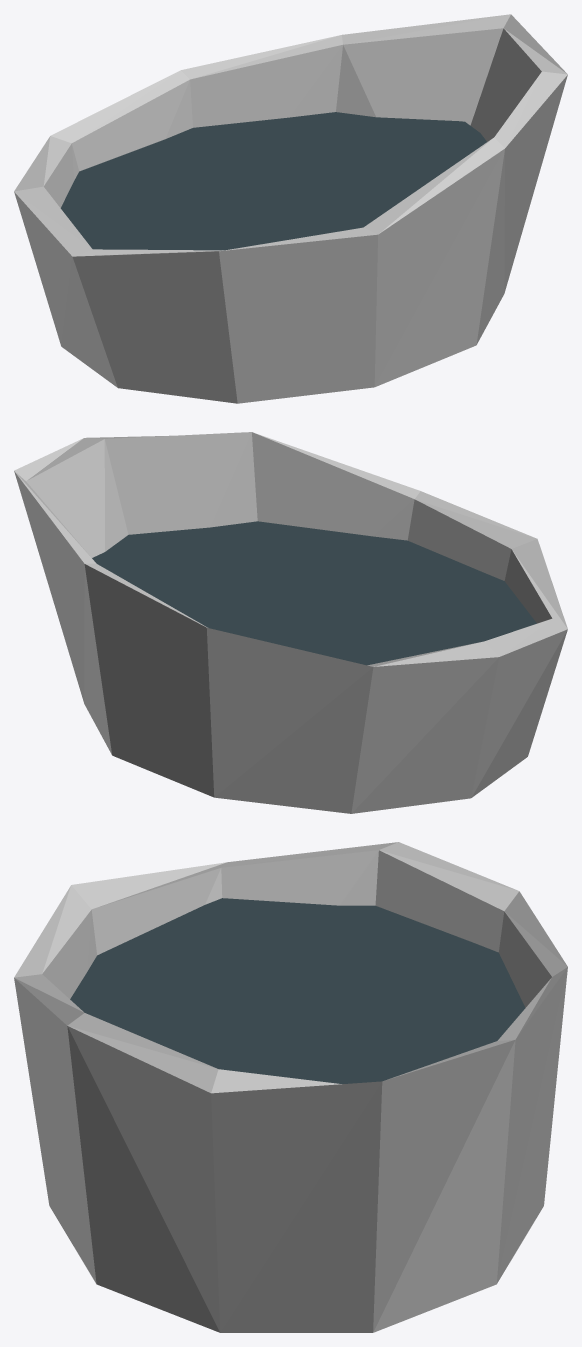
File: BATHTUB_WOODEN.OBJ
3 renders of one model, top to bottom at view 1: azimuth 30°, elevation 25°; view 2: azimuth 150°, elevation 25°; view 3: azimuth 270°, elevation 25°, orthographic. The views are drawn at different scales.
Parts seen in each view (by area): view 1: BATHTUB_WOODEN; view 2: BATHTUB_WOODEN; view 3: BATHTUB_WOODEN.
Boxes of the visible parts, bbox=[...] form: BATHTUB_WOODEN: bbox=[14, 14, 567, 403]; BATHTUB_WOODEN: bbox=[14, 432, 567, 813]; BATHTUB_WOODEN: bbox=[14, 842, 567, 1332].
Size of the model in its own units: 1.29 by 0.5449 by 0.926.
